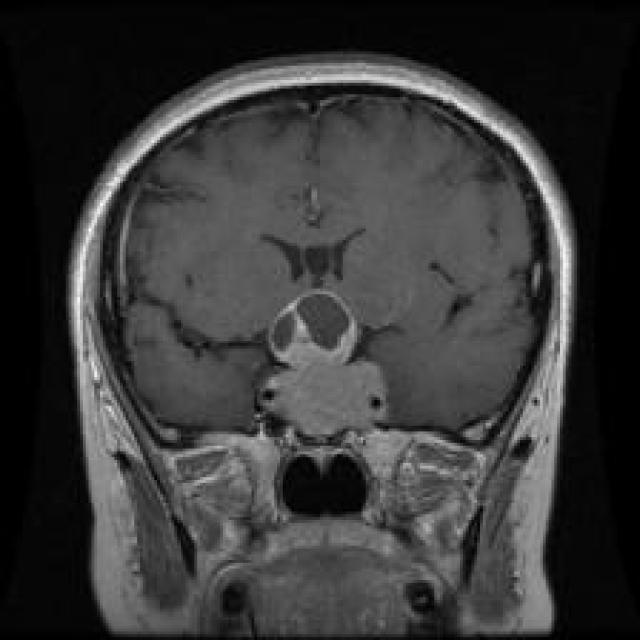pituitary_tumor: (256, 280, 379, 370)
